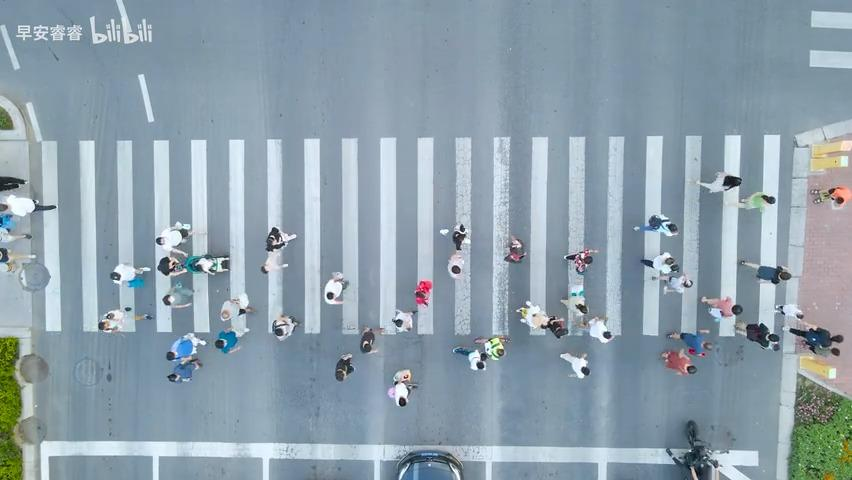Civilian: (155, 221, 193, 273), (782, 325, 843, 356), (260, 226, 296, 274), (167, 252, 229, 276), (734, 320, 779, 351), (737, 259, 791, 284), (665, 329, 712, 357), (0, 194, 57, 216), (687, 171, 742, 193), (165, 332, 206, 361), (387, 368, 417, 407), (517, 297, 549, 332), (632, 213, 678, 237), (640, 251, 678, 280), (700, 295, 742, 321), (725, 191, 775, 212), (109, 262, 151, 287), (220, 292, 256, 321), (659, 348, 696, 376), (18, 261, 50, 292), (563, 247, 599, 274), (473, 334, 510, 360), (0, 212, 32, 242), (166, 356, 202, 382), (451, 345, 488, 370), (162, 282, 196, 309), (810, 185, 851, 207), (0, 247, 36, 272), (323, 271, 349, 304), (653, 272, 692, 294), (559, 351, 590, 378), (586, 314, 614, 343), (98, 307, 130, 332), (560, 287, 588, 315), (272, 314, 301, 341), (214, 327, 241, 354), (540, 315, 568, 338), (503, 235, 525, 263), (391, 308, 416, 332), (334, 352, 354, 381), (359, 326, 378, 354), (414, 280, 432, 307), (774, 303, 804, 319), (0, 175, 28, 192), (451, 222, 467, 251), (446, 253, 463, 277)
